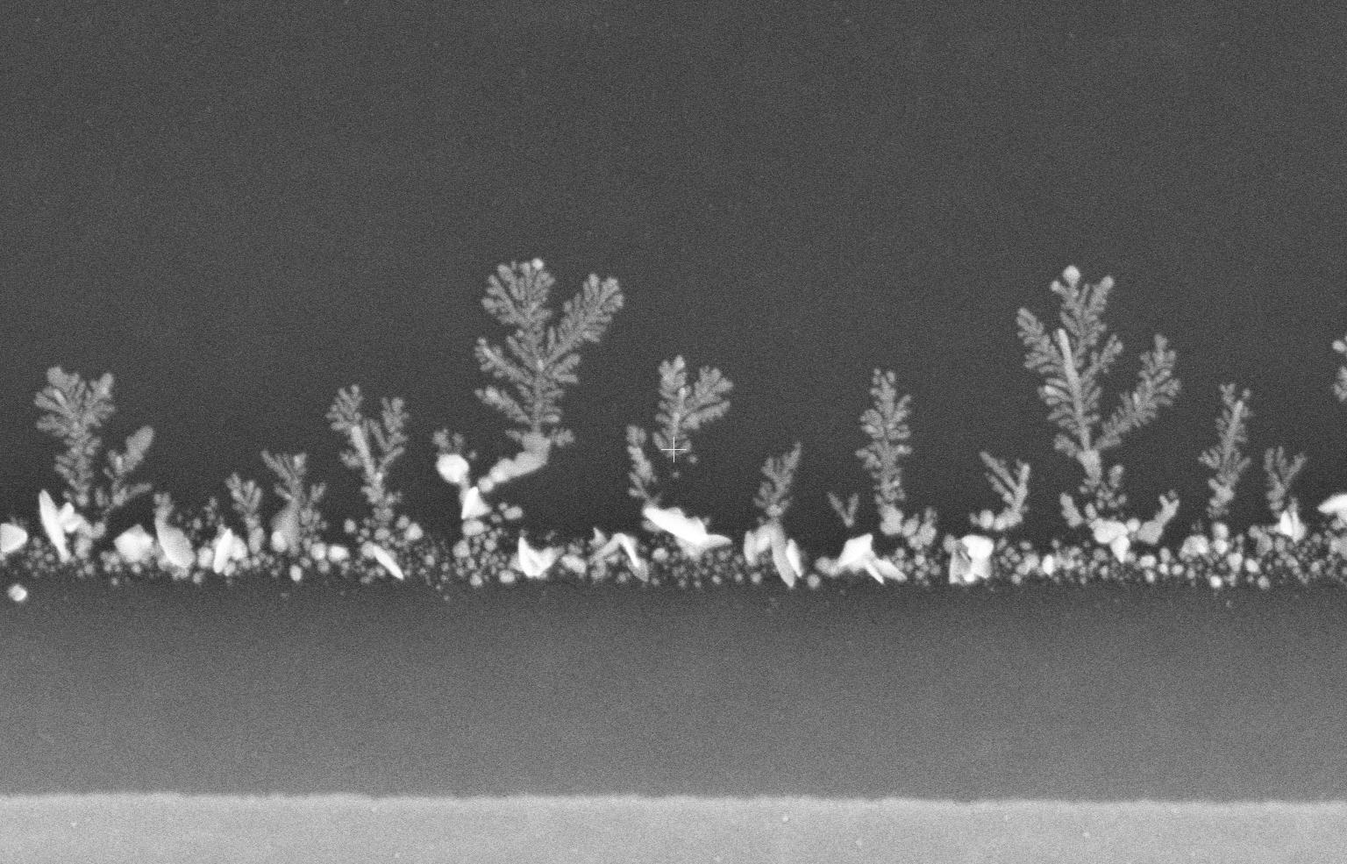Dendrite: (1017, 266, 1179, 511), (474, 258, 624, 491), (1126, 447, 1346, 589), (326, 385, 460, 586), (432, 428, 522, 586), (35, 367, 114, 507), (649, 355, 732, 480), (856, 368, 911, 534), (643, 505, 747, 585), (1061, 491, 1179, 561), (1199, 383, 1251, 518), (556, 528, 667, 587), (262, 451, 325, 552), (991, 537, 1121, 583), (39, 490, 105, 575), (96, 425, 152, 519), (970, 451, 1030, 532), (880, 507, 940, 579), (815, 534, 900, 583), (754, 440, 802, 524), (745, 520, 803, 587), (226, 474, 268, 566), (153, 492, 195, 579), (225, 473, 265, 553), (1265, 446, 1307, 517), (101, 524, 157, 574), (262, 451, 310, 507), (627, 425, 660, 505), (944, 534, 994, 583), (211, 526, 250, 575), (1318, 492, 1346, 559), (518, 534, 561, 577), (192, 496, 227, 544), (24, 531, 61, 575), (272, 501, 300, 551), (0, 515, 28, 557), (828, 492, 858, 529), (1277, 505, 1305, 541), (0, 522, 27, 554), (260, 553, 288, 576), (1333, 364, 1346, 403), (7, 582, 27, 603), (327, 544, 349, 562), (1332, 334, 1346, 356), (310, 543, 324, 560), (290, 565, 302, 581), (316, 560, 329, 574), (299, 559, 312, 572)
